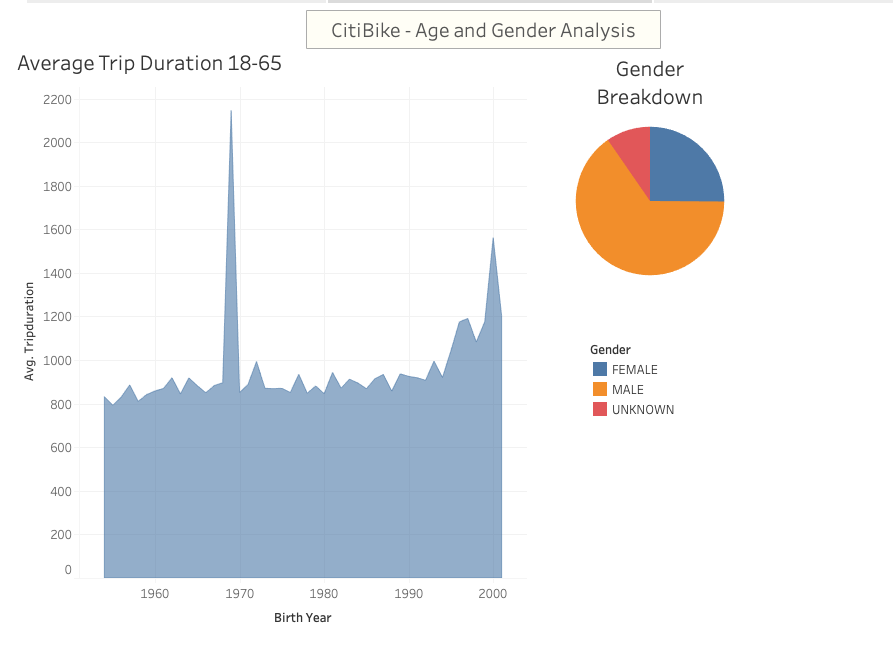

The dashboard page shown, as its layout file describes it:
{"tool":"tableau","page":{"name":"Dashboard 3","canvas":[1000,800],"ordinal":2},"visuals":[{"type":"worksheet","title":"Average Trip Duration 18-65","mark":"Area","rows":["tripduration"],"cols":["birth year"],"box":[16,21,514,589]},{"type":"worksheet","title":"Gender Breakdown","mark":"Pie","box":[573,27,216,282]},{"type":"legend","title":"Gender Breakdown","param":"[federated.1cpgstx1dyyfy417b39tu15bkizo].[none:Calculation_195976992955322371:nk","box":[593,318,140,78]}]}

Visuals, with their boxes on the page's 1000x800 design canvas (x1, y1, x2, y2). These are canvas units, not pixel positions in the 893x665 screenshot, which may show the page scaled, cropped or inside an application window:
"Average Trip Duration 18-65" worksheet (Area marks): l=16, t=21, r=530, b=610
"Gender Breakdown" worksheet (Pie marks): l=573, t=27, r=789, b=309
"Gender Breakdown" legend: l=593, t=318, r=733, b=396
